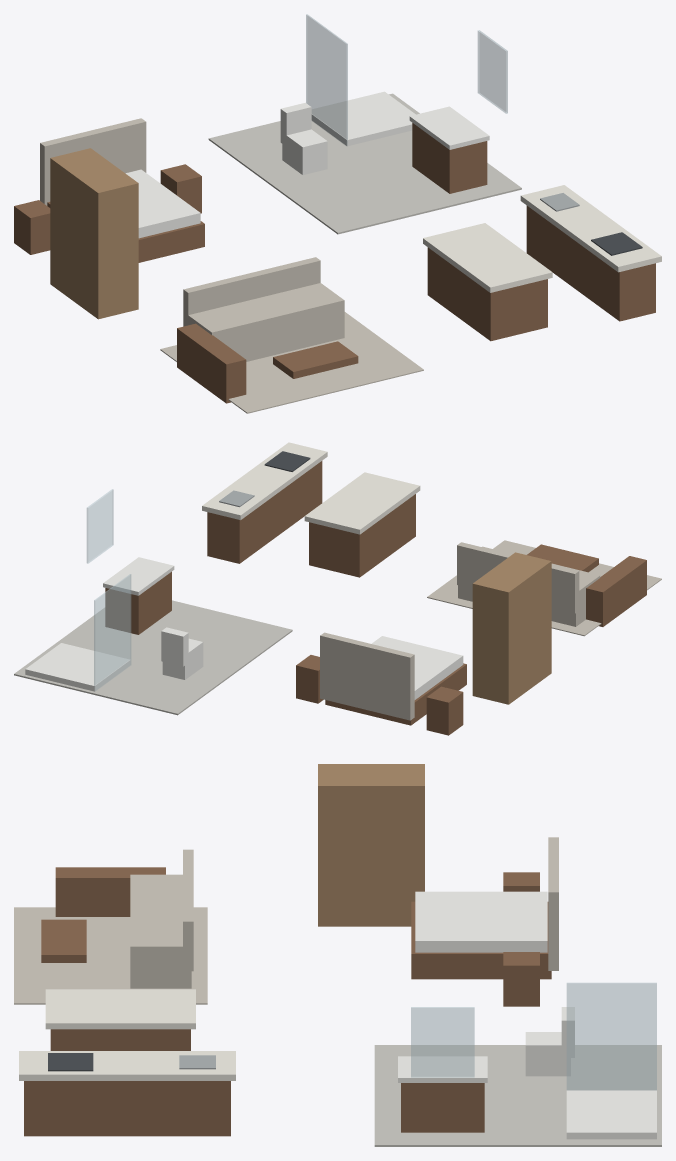
The model's file is interior.glb.
The picture shows the model from 3 angles, top to bottom: view 1: azimuth 30°, elevation 25°; view 2: azimuth 150°, elevation 25°; view 3: azimuth 270°, elevation 25°; orthographic projection. The views are drawn at different scales.
Visible parts, largest first — view 1: BATH_Tile_Floor, BED_Wardrobe, FURN_Living_Sofa, FURN_Living_Rug, KIT_Base_Cabinet, KIT_Island, KIT_Island_Counter, BATH_Shower_Screen, KIT_Stone_Counter, FURN_Sofa_Back, BED_Primary_Headboard, BATH_Shower_Tray (+12 smaller); view 2: BATH_Tile_Floor, BED_Wardrobe, BED_Primary_Headboard, KIT_Base_Cabinet, KIT_Island, KIT_Island_Counter, BATH_Shower_Screen, KIT_Stone_Counter, BATH_Shower_Tray, FURN_Media_Console, FURN_Sofa_Back, BATH_Vanity (+12 smaller); view 3: BATH_Tile_Floor, BED_Wardrobe, KIT_Base_Cabinet, BATH_Shower_Screen, FURN_Living_Rug, BED_Primary_Mattress, FURN_Living_Sofa, KIT_Island_Counter, KIT_Stone_Counter, BATH_Shower_Tray, BATH_Mirror, BATH_Vanity (+12 smaller).
Boxes of the visible parts, left/top/right/bottom form: BATH_Tile_Floor: left=208, top=93, right=521, bottom=234; BED_Wardrobe: left=50, top=148, right=138, bottom=319; FURN_Living_Sofa: left=184, top=283, right=344, bottom=361; FURN_Living_Rug: left=160, top=312, right=423, bottom=413; KIT_Base_Cabinet: left=526, top=205, right=655, bottom=321; KIT_Island: left=427, top=247, right=547, bottom=341; KIT_Island_Counter: left=423, top=223, right=552, bottom=292; BATH_Shower_Screen: left=306, top=14, right=347, bottom=145; KIT_Stone_Counter: left=520, top=185, right=661, bottom=272; FURN_Sofa_Back: left=183, top=257, right=320, bottom=326; BED_Primary_Headboard: left=40, top=118, right=146, bottom=205; BATH_Shower_Tray: left=311, top=91, right=415, bottom=146; BATH_Tile_Floor: left=14, top=600, right=292, bottom=715; BED_Wardrobe: left=472, top=552, right=551, bottom=704; BED_Primary_Headboard: left=320, top=632, right=414, bottom=720; KIT_Base_Cabinet: left=207, top=461, right=322, bottom=563; KIT_Island: left=309, top=494, right=415, bottom=577; KIT_Island_Counter: left=304, top=472, right=420, bottom=534; BATH_Shower_Screen: left=94, top=574, right=131, bottom=691; KIT_Stone_Counter: left=202, top=442, right=327, bottom=519; BATH_Shower_Tray: left=25, top=643, right=130, bottom=691; FURN_Media_Console: left=586, top=556, right=646, bottom=626; FURN_Sofa_Back: left=457, top=542, right=579, bottom=613; BATH_Vanity: left=105, top=571, right=171, bottom=634; BATH_Tile_Floor: left=374, top=1045, right=661, bottom=1146; BED_Wardrobe: left=318, top=764, right=424, bottom=926; KIT_Base_Cabinet: left=24, top=1081, right=230, bottom=1136; BATH_Shower_Screen: left=566, top=982, right=656, bottom=1090; FURN_Living_Rug: left=14, top=907, right=207, bottom=1004; BED_Primary_Mattress: left=415, top=891, right=547, bottom=952; FURN_Living_Sofa: left=130, top=874, right=191, bottom=988; KIT_Island_Counter: left=45, top=989, right=195, bottom=1029; KIT_Stone_Counter: left=19, top=1051, right=235, bottom=1080; BATH_Shower_Tray: left=566, top=1090, right=656, bottom=1139; BATH_Mirror: left=411, top=1007, right=474, bottom=1077; BATH_Vanity: left=401, top=1083, right=484, bottom=1132.
Size of the model in its own units: 8.69 by 2.35 by 9.7.
